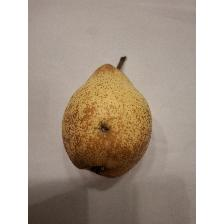Birne: (57, 54, 155, 180)
